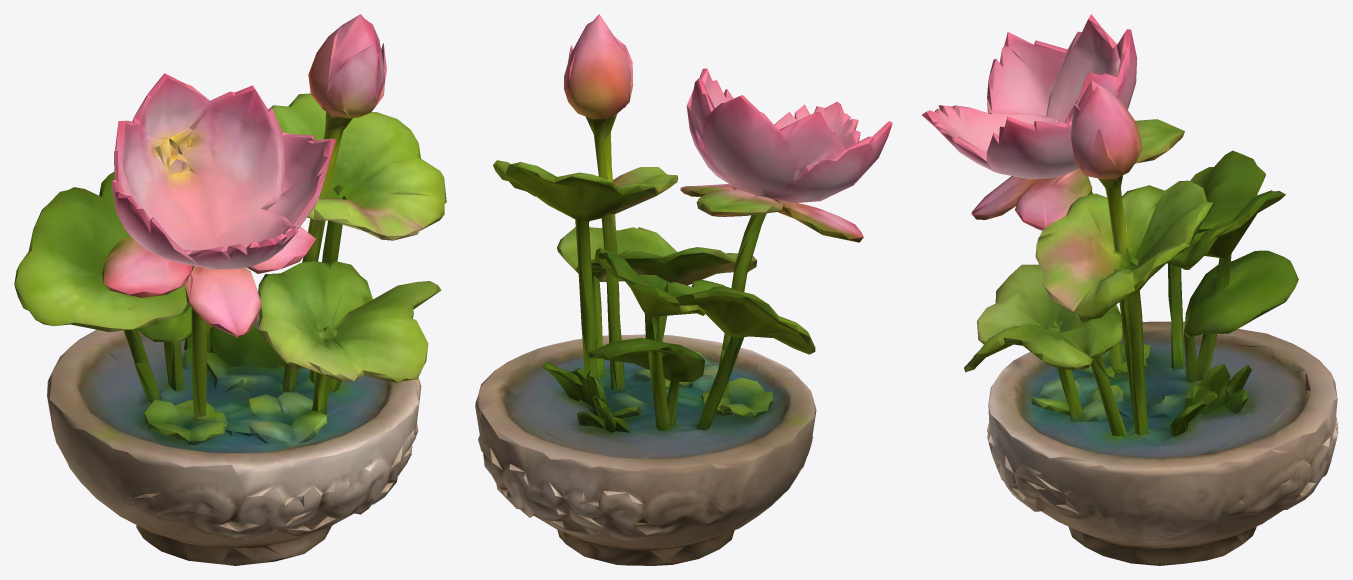
Rendered from plant08.glb.
3 renders of one model, left to right at view 1: azimuth 30°, elevation 25°; view 2: azimuth 150°, elevation 25°; view 3: azimuth 270°, elevation 25°, orthographic. The views are drawn at different scales.
Bounding box in the file's own units: 0.2288 × 0.2963 × 0.2293.
Materials: 1 (1 with a texture image).
